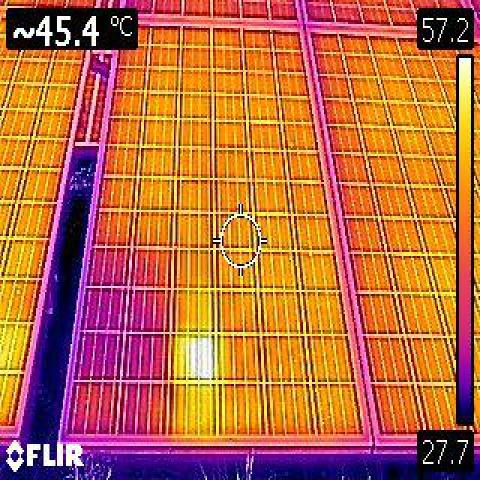fault: (177, 336, 214, 381)
